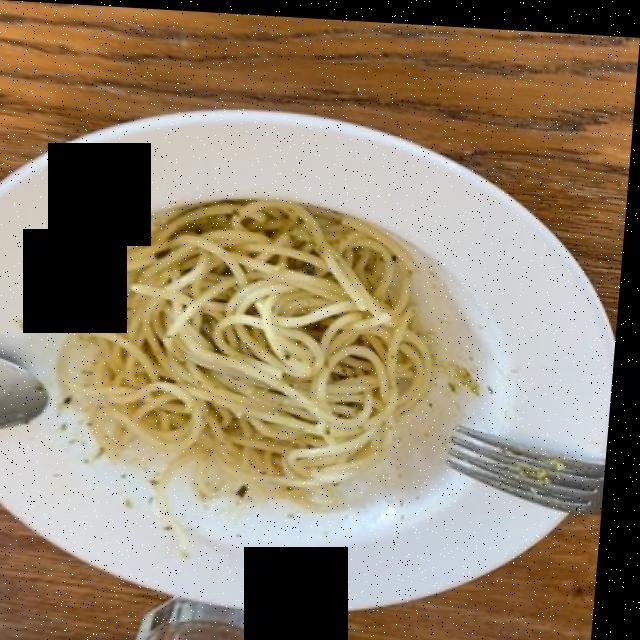pasta: (86, 195, 435, 497)
